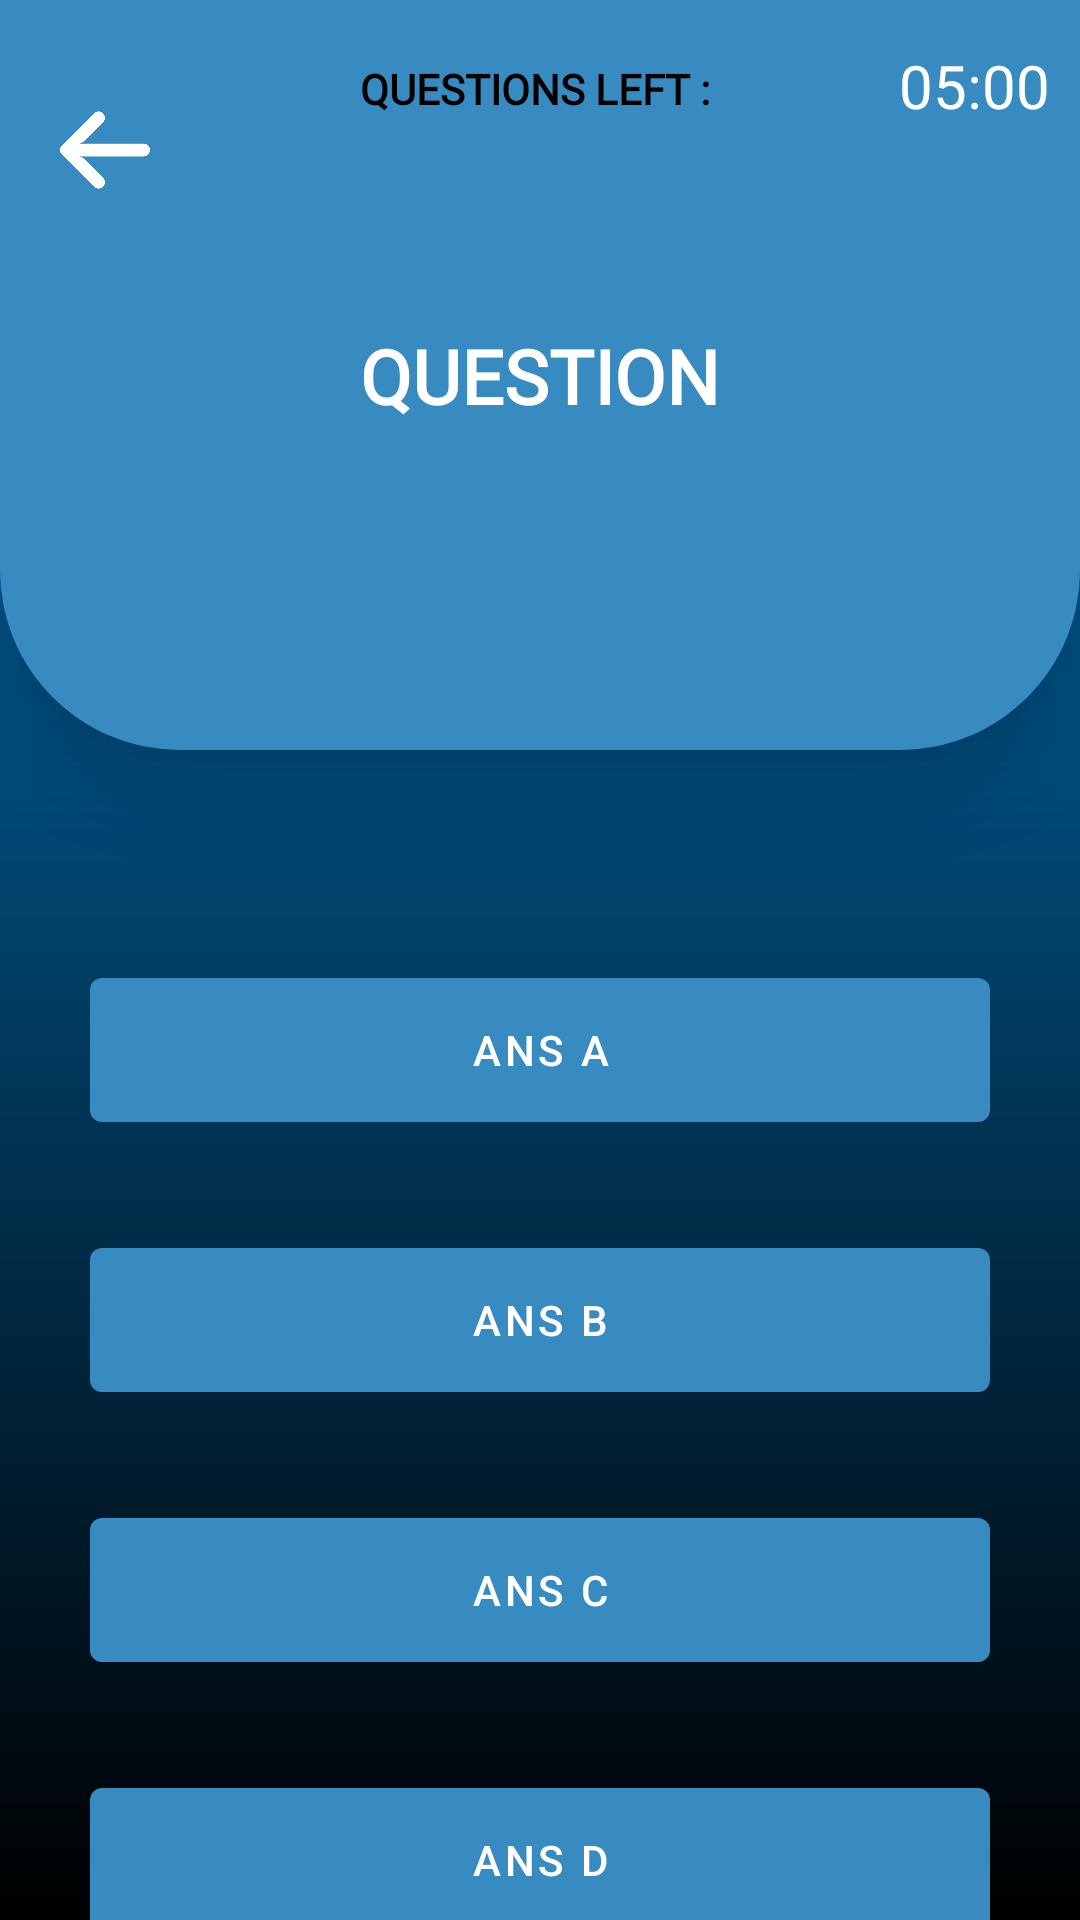

Screen size 1080*1920. Icon name, then its center in pixels as [x,y]:
backarrow: [105,150]
